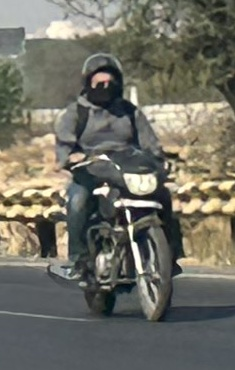BikeWithRider: (39, 47, 193, 325)
Helmet: (73, 48, 131, 109)
